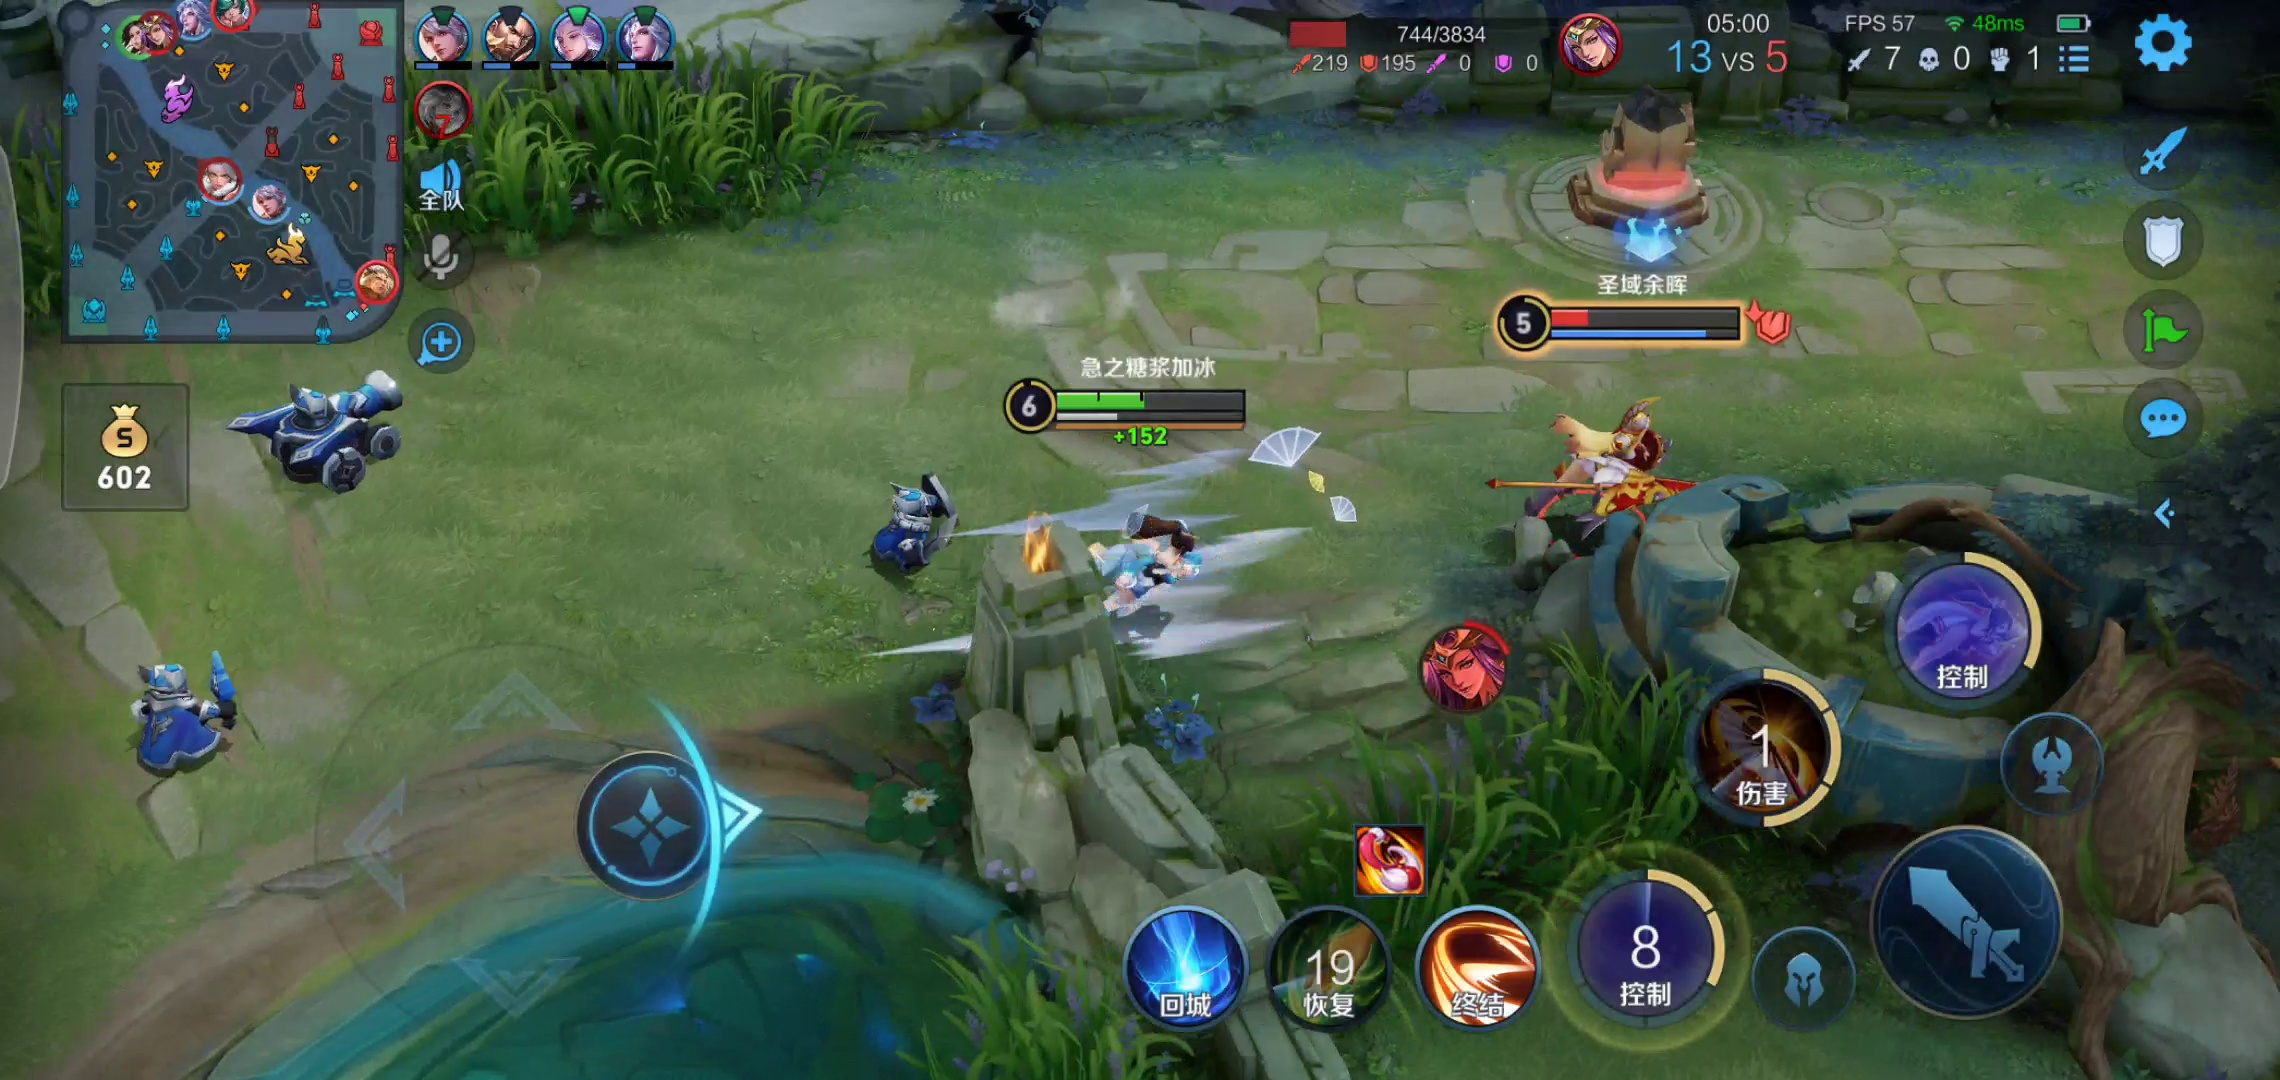grass: (1313, 688, 1746, 994), (422, 60, 852, 230), (906, 916, 1155, 1080)
hero: (1079, 499, 1223, 673), (1509, 406, 1701, 529)
soldier: (105, 642, 263, 779), (243, 372, 417, 494), (859, 470, 966, 571)
tower: (1544, 92, 1741, 240)
